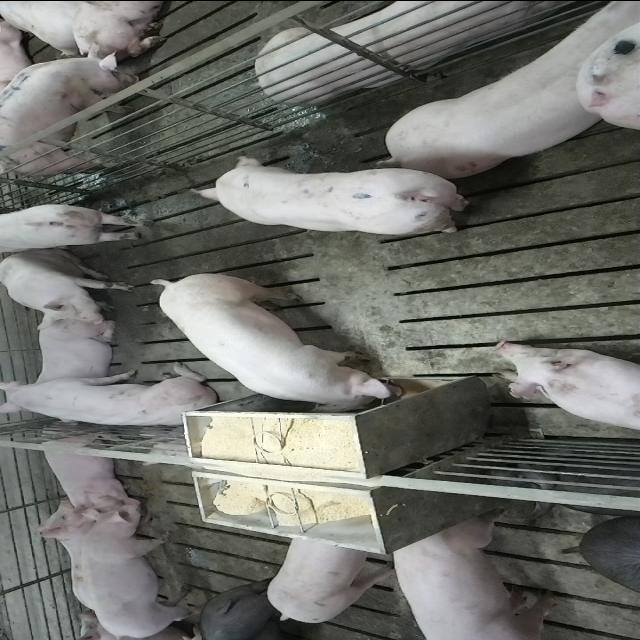Feeding: (147, 276, 404, 418)
Sitting: (4, 368, 224, 429), (0, 248, 136, 322)
Standing: (190, 156, 474, 236), (387, 514, 562, 639), (0, 49, 138, 178), (79, 502, 204, 637), (266, 533, 400, 623), (2, 200, 156, 252), (191, 582, 327, 640)
Sternal_lying: (250, 0, 577, 102), (491, 339, 640, 434), (32, 424, 140, 514), (32, 310, 120, 393)
